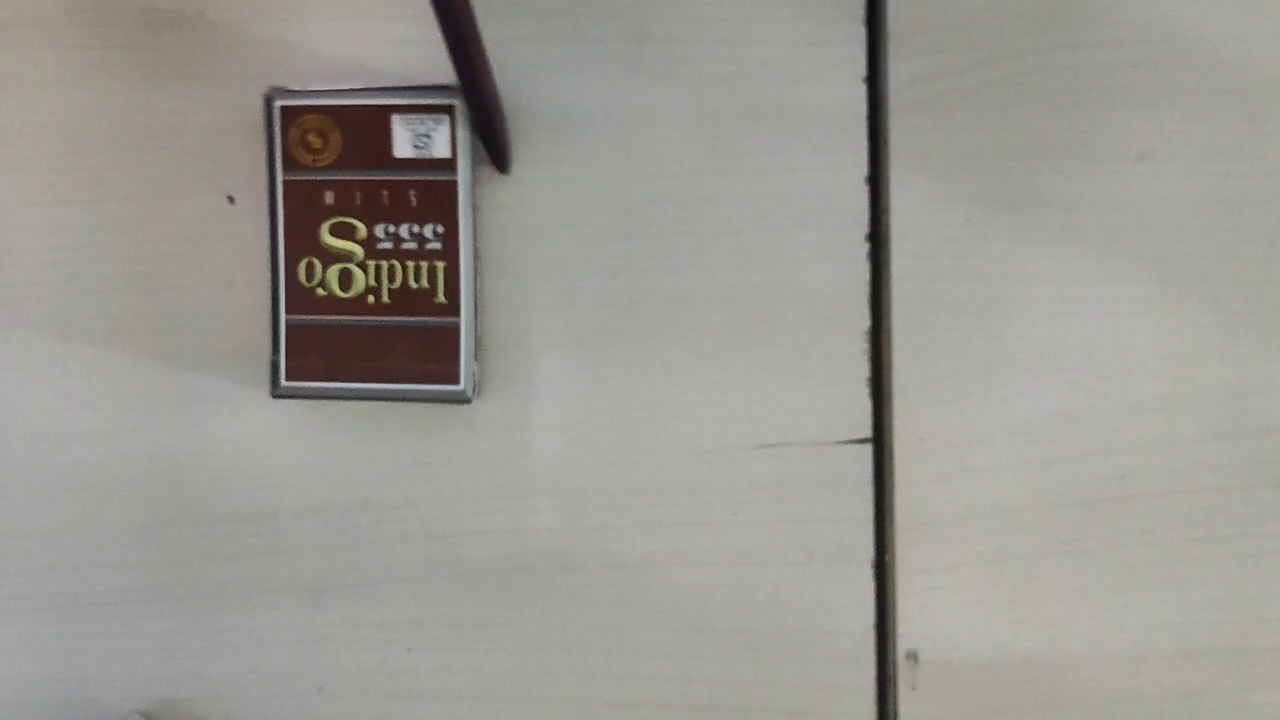BEX: (271, 98, 459, 387)
